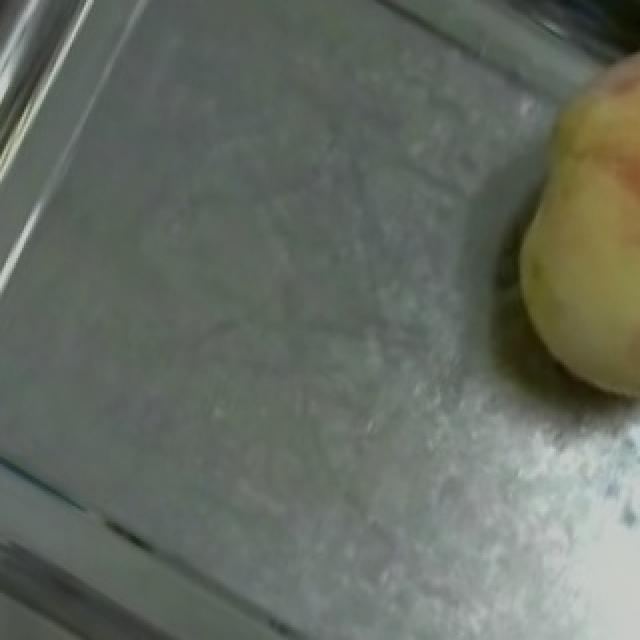Fruit: (476, 15, 640, 317)
